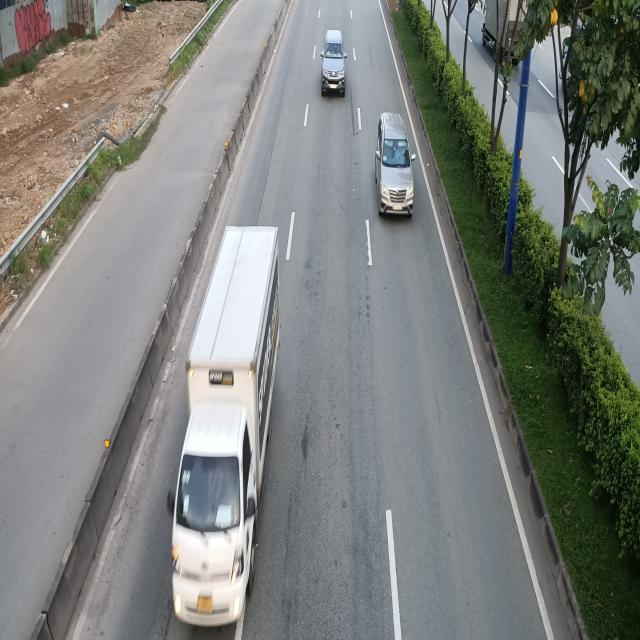car: (373, 110, 413, 216), (321, 30, 349, 96)
truck: (170, 226, 284, 640)
